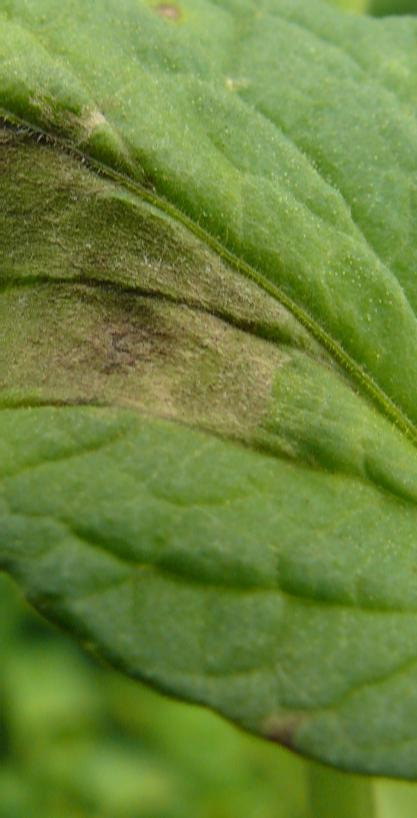Tomato leaf late blight: (0, 0, 417, 793)
